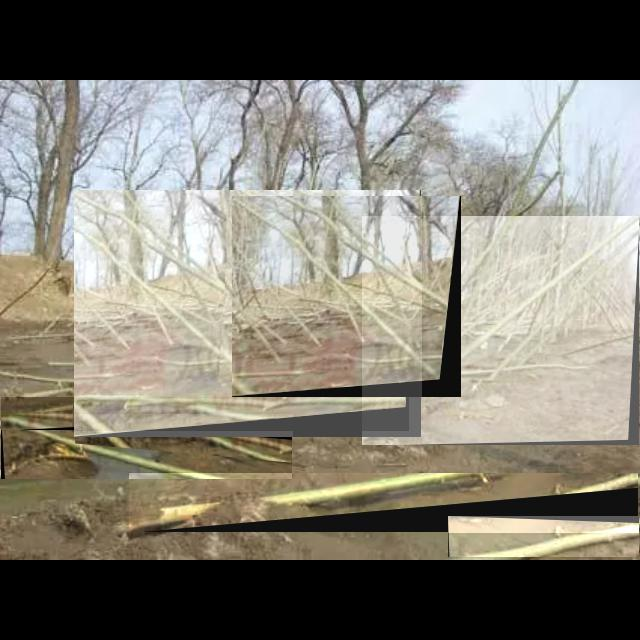fallen_tree: (74, 190, 422, 438), (362, 216, 640, 446), (232, 196, 462, 398), (129, 473, 639, 533), (1, 414, 293, 480), (1, 397, 409, 431), (448, 516, 640, 558)
